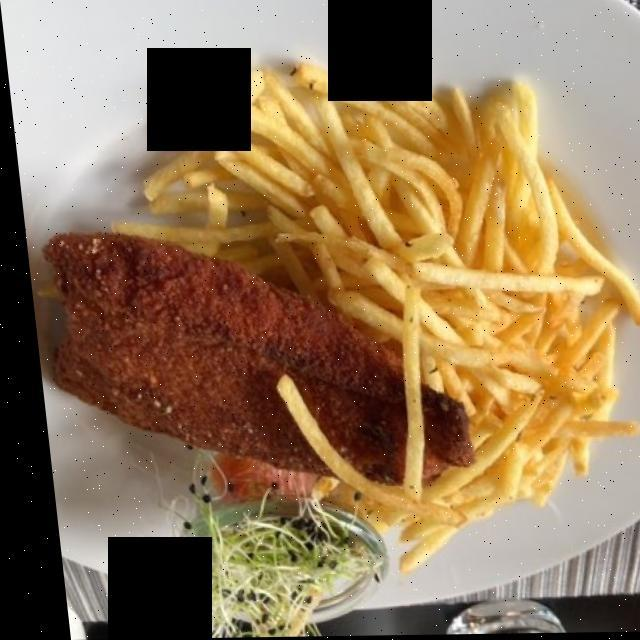chips-french-fries: (130, 52, 622, 570)
pork-schnitzel-fried: (48, 232, 468, 486)
sprouts: (170, 502, 344, 636)
